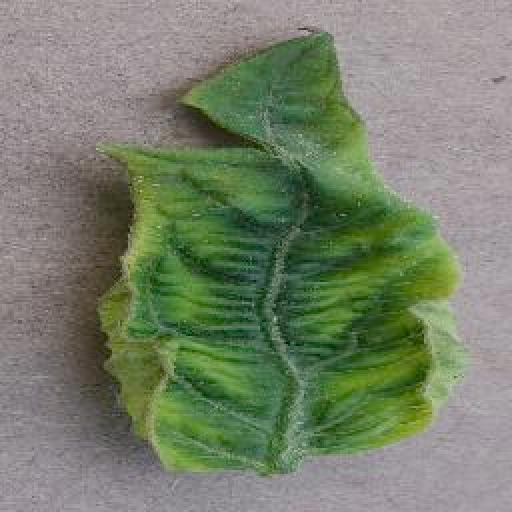disease_tomato: (100, 26, 470, 476)
